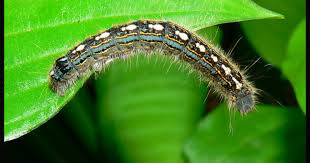Caterpillar: (47, 19, 259, 117)
